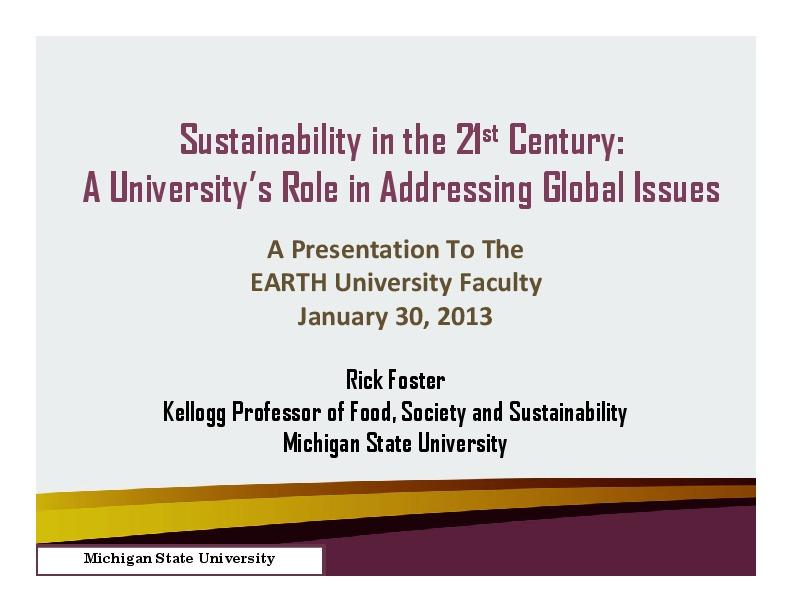paragraph: (112, 220, 677, 462)
title: (56, 87, 759, 235)
